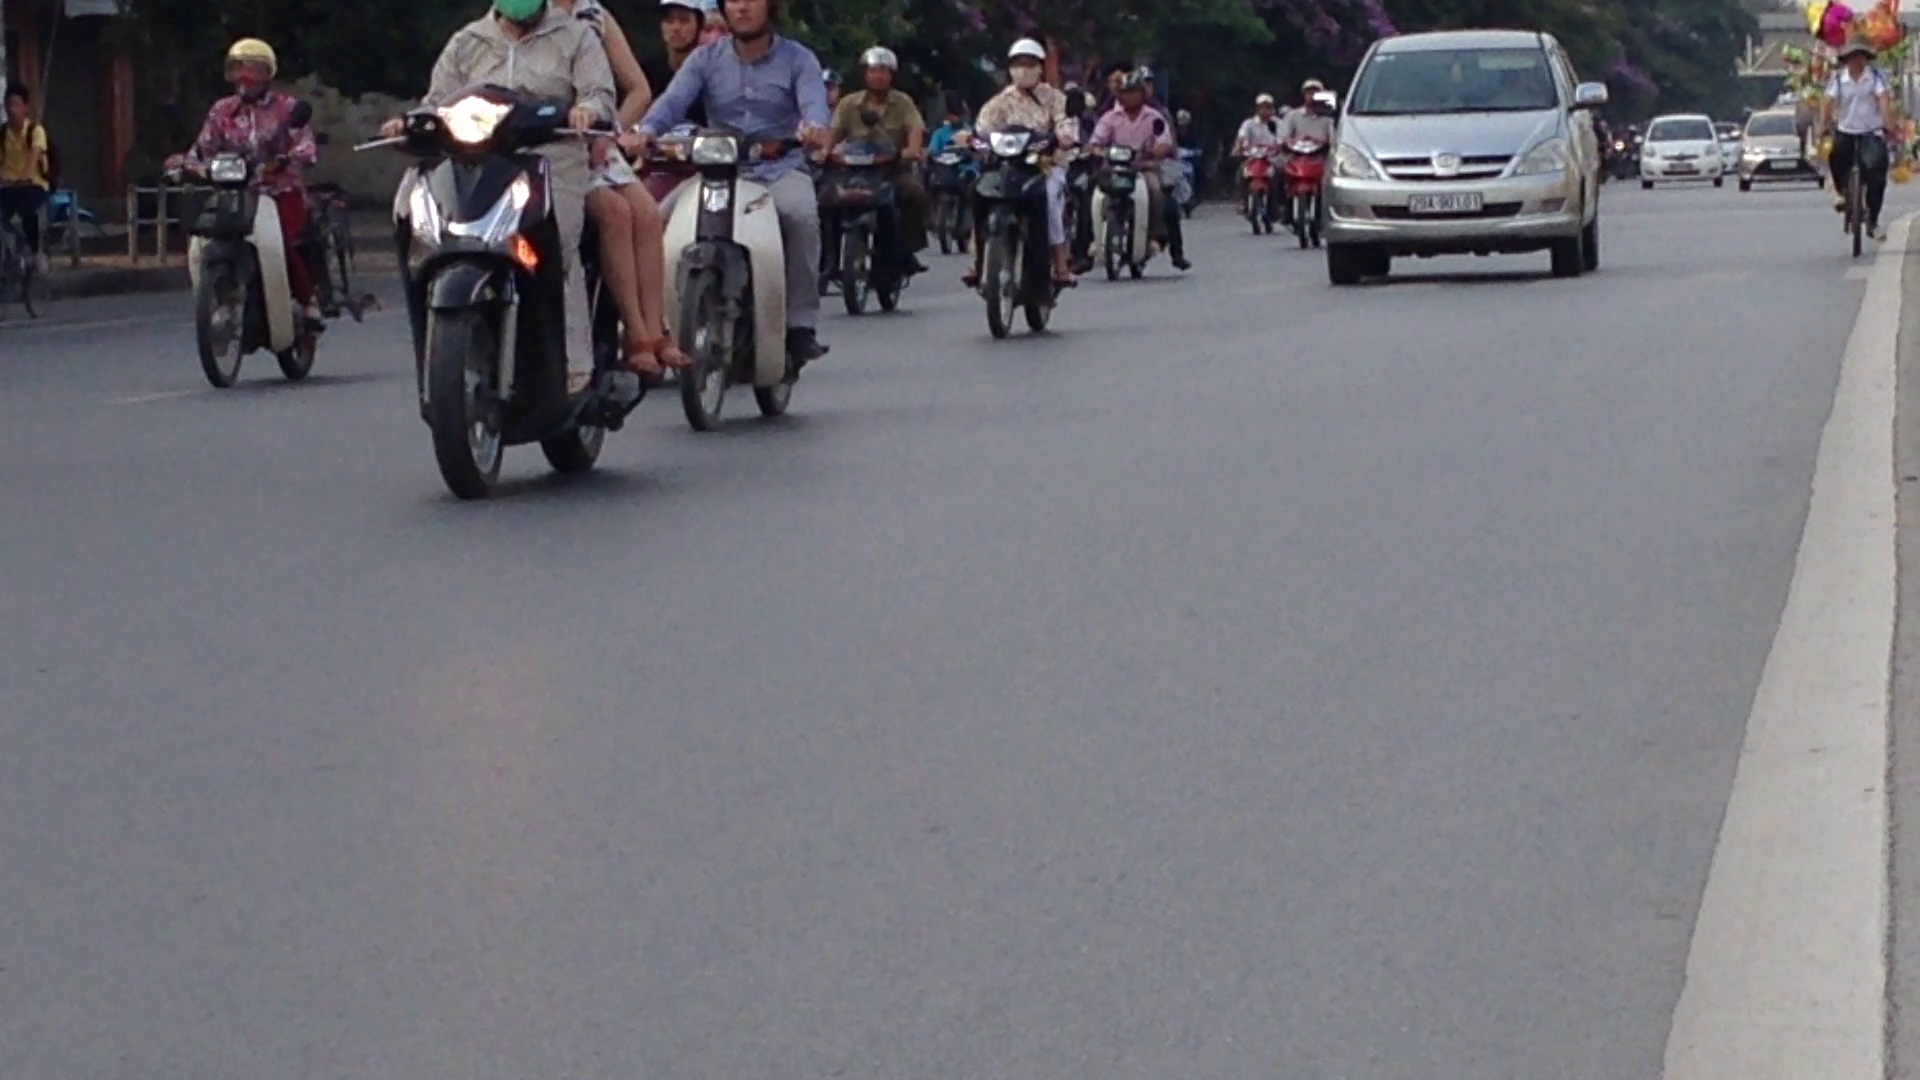person: (1404, 189, 1488, 216)
